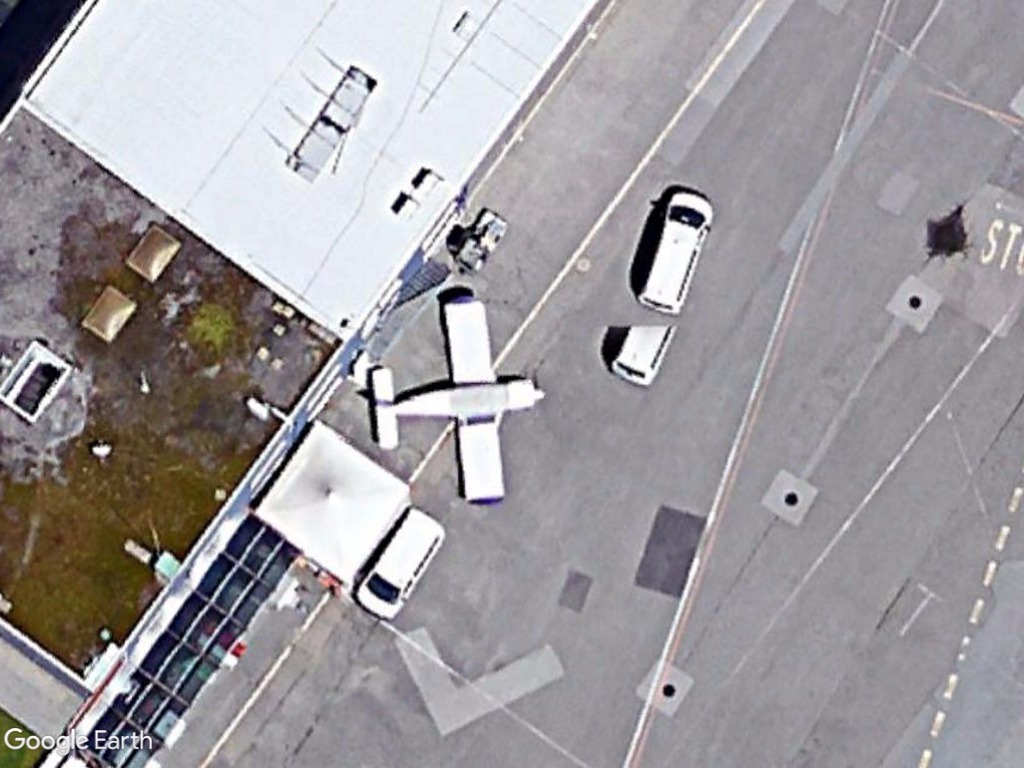trainer: (361, 284, 552, 512)
van: (633, 188, 717, 323), (356, 504, 449, 624)
